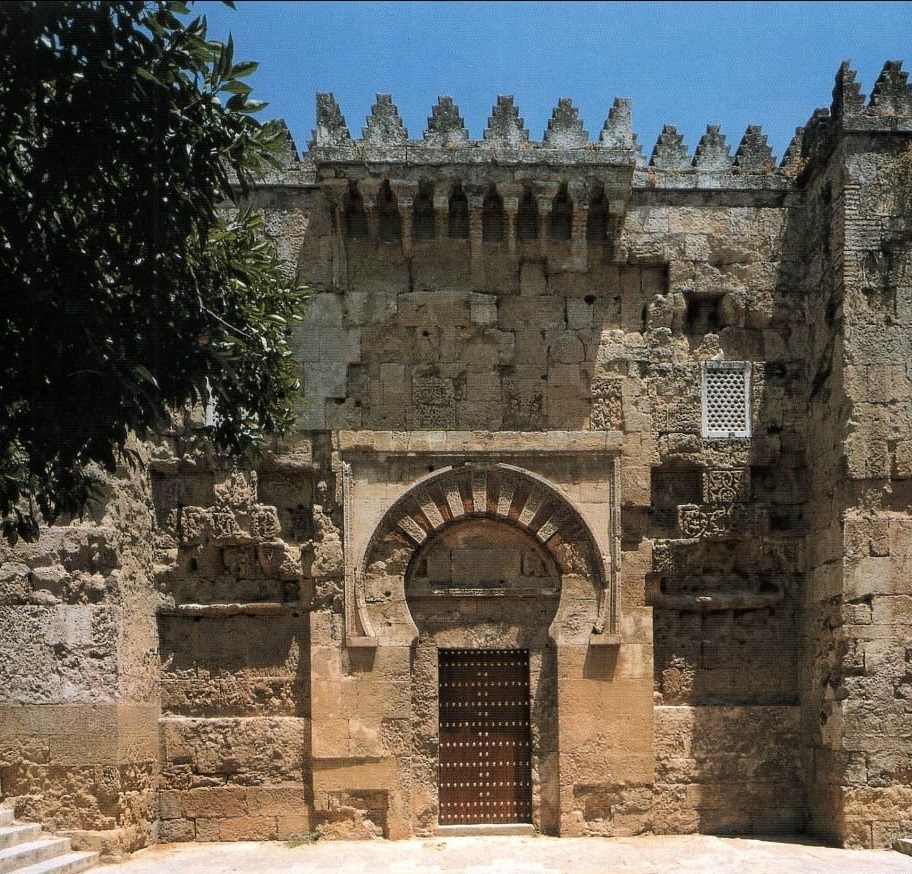arco-herradura: (391, 499, 579, 669)
